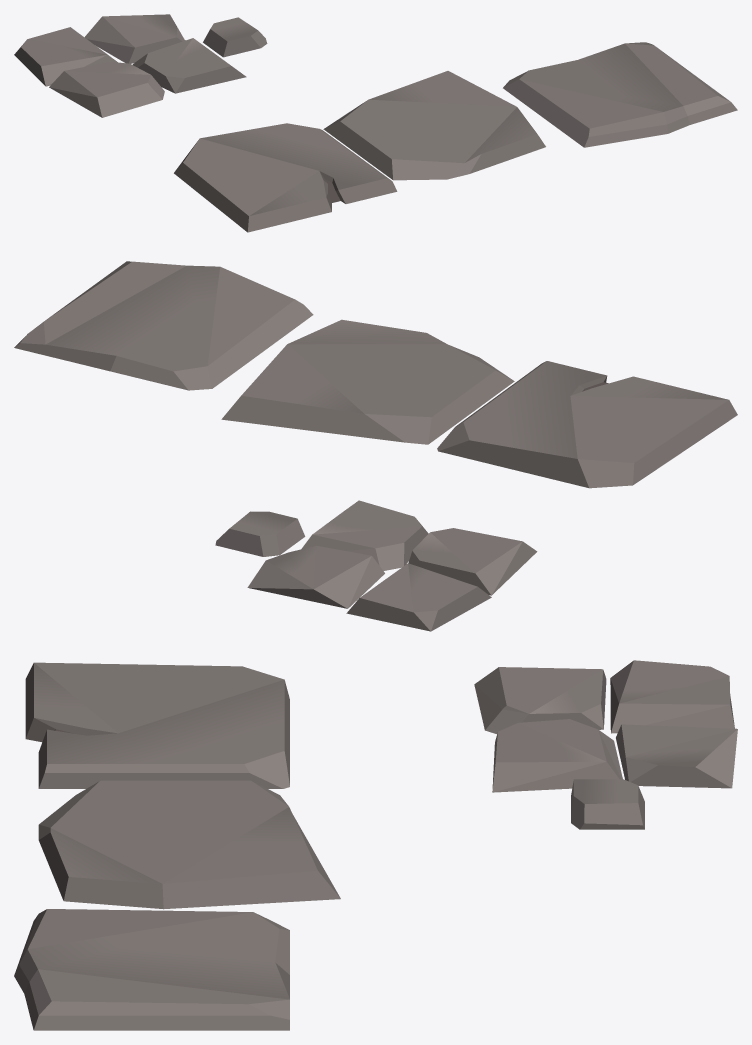
Rendered from Path.fbx.
The picture shows the model from 3 angles, top to bottom: view 1: azimuth 30°, elevation 25°; view 2: azimuth 150°, elevation 25°; view 3: azimuth 270°, elevation 25°; orthographic projection. The views are drawn at different scales.
Parts seen in each view (by area): view 1: Cube.004, Cube.001, Cube.003, Cube.002, Cube; view 2: Cube.003, Cube.001, Cube.004, Cube.002, Cube; view 3: Cube.003, Cube.004, Cube.001, Cube.002, Cube.
Part boxes in pixels (x1,y1,x2,y2): Cube.004: (323, 71, 545, 180); Cube.001: (174, 123, 397, 232); Cube.003: (503, 42, 737, 147); Cube.002: (14, 14, 246, 117); Cube: (203, 17, 267, 57); Cube.003: (14, 261, 313, 390); Cube.001: (437, 361, 737, 488); Cube.004: (221, 319, 514, 444); Cube.002: (247, 500, 537, 631); Cube: (215, 511, 305, 556); Cube.003: (14, 909, 289, 1030); Cube.004: (38, 780, 340, 909); Cube.001: (25, 662, 289, 788); Cube.002: (474, 660, 737, 792); Cube: (571, 779, 644, 829).
Size of the model in its own units: 10.24 by 0.4056 by 8.88.
